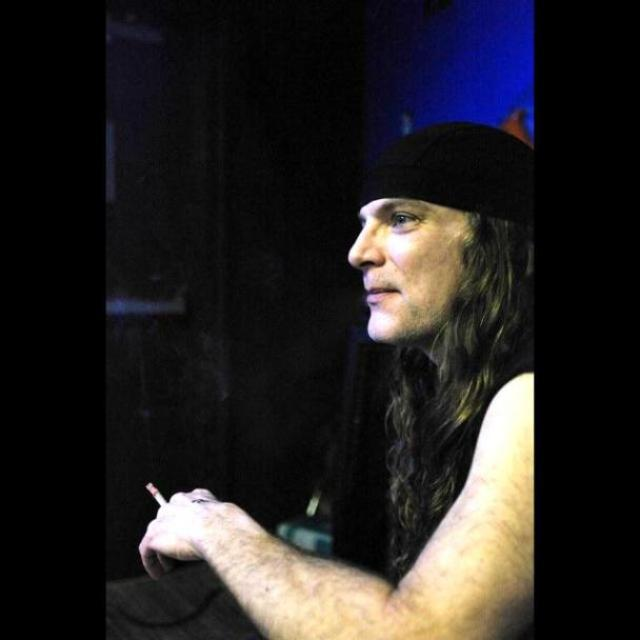rokok: (137, 476, 175, 508)
